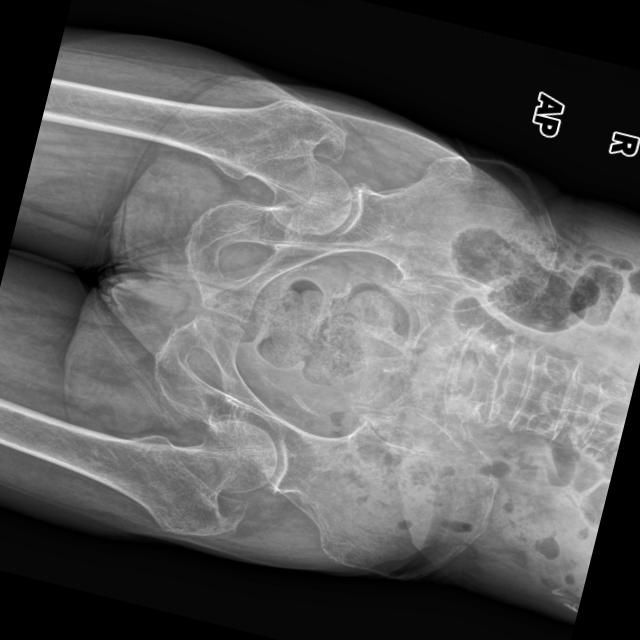normal-left: (0, 399, 276, 536)
normal-right: (43, 78, 351, 234)
